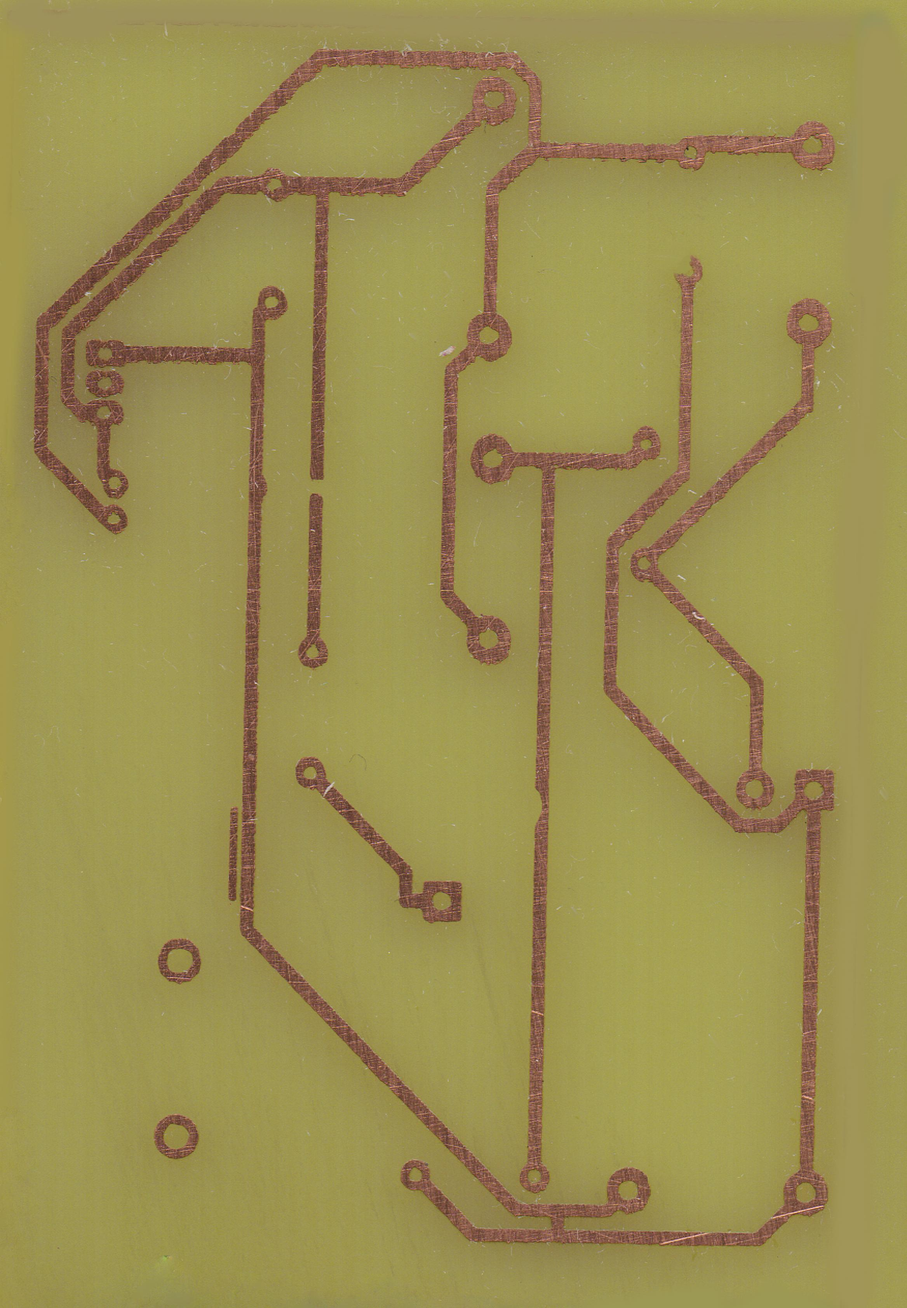missing_hole: (671, 252, 705, 293)
mouse_bite: (528, 777, 559, 833)
open_circuit: (305, 467, 330, 501)
short: (546, 1202, 569, 1244)
spur: (243, 469, 270, 505)
spurious_copper: (227, 804, 240, 901)
